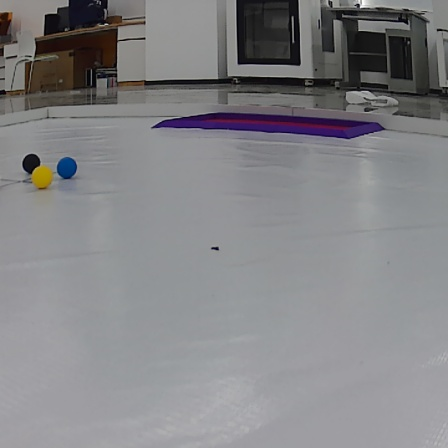black: (21, 153, 40, 175)
blue: (55, 157, 77, 180)
red_aim: (154, 110, 383, 141)
yellow: (31, 165, 52, 190)
